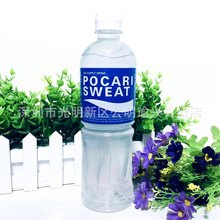POCARI SWEAT: (81, 9, 135, 211)
